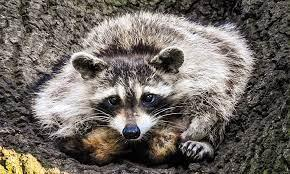raccoon: (20, 2, 268, 174)
